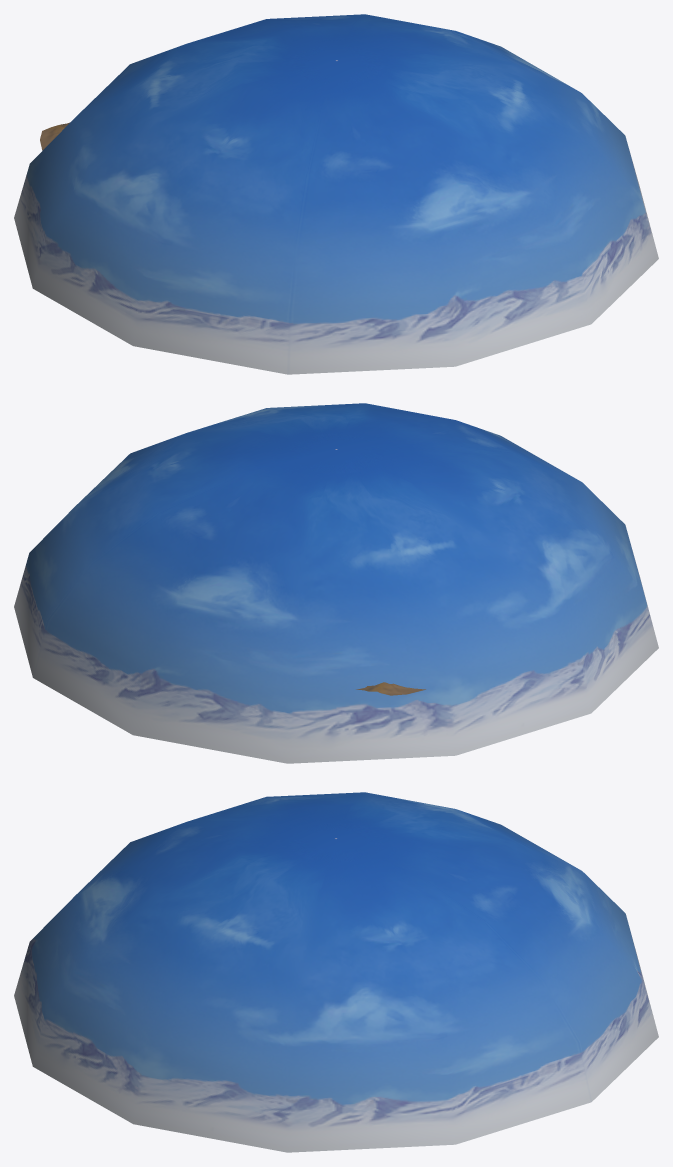
File: env_tyth_seeing_stone_01_pre.glb
3 views of the same model, one above another, from view 1: azimuth 30°, elevation 25°; view 2: azimuth 150°, elevation 25°; view 3: azimuth 270°, elevation 25° (orthographic).
Parts seen in each view (by area): view 1: skybox_01_mesh (1); view 2: skybox_01_mesh (1); view 3: skybox_01_mesh (1).
Boxes of the visible parts, left/top/right/bottom form: skybox_01_mesh (1): left=14, top=14, right=658, bottom=374; skybox_01_mesh (1): left=14, top=403, right=658, bottom=763; skybox_01_mesh (1): left=14, top=792, right=658, bottom=1152.
Bounding box in the file's own units: 2104 × 641 × 2104.
18 materials, 18 textured.
